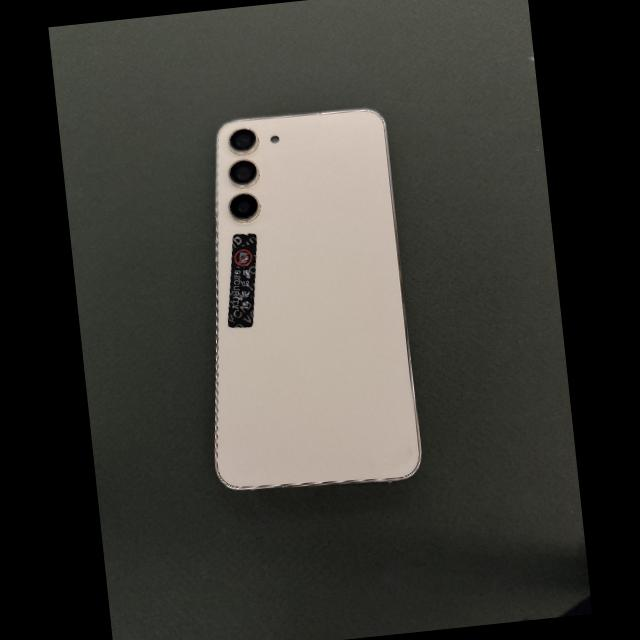lens: (229, 194, 261, 222), (229, 160, 257, 186), (229, 129, 258, 153)
phone: (215, 109, 420, 489)
sticker: (227, 233, 256, 327)
